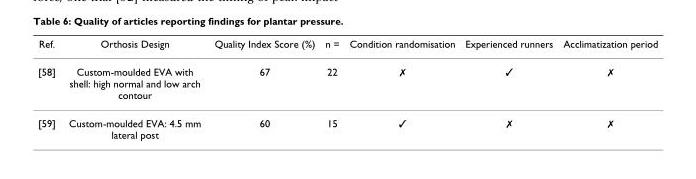table: (37, 37, 657, 140)
table column: (61, 37, 206, 140), (343, 37, 459, 140), (206, 37, 319, 140), (557, 37, 657, 140), (459, 37, 557, 140), (37, 37, 61, 140), (319, 37, 343, 140)
table column header: (37, 37, 657, 57)
table row: (37, 57, 657, 108), (37, 108, 657, 140), (37, 37, 657, 57)
